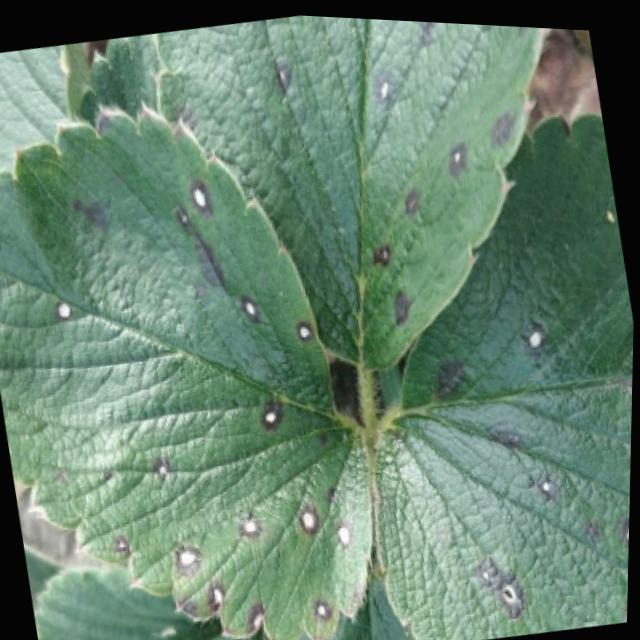Leaf Spot: (0, 97, 376, 640), (370, 106, 635, 640), (153, 12, 546, 364), (336, 522, 419, 640)
